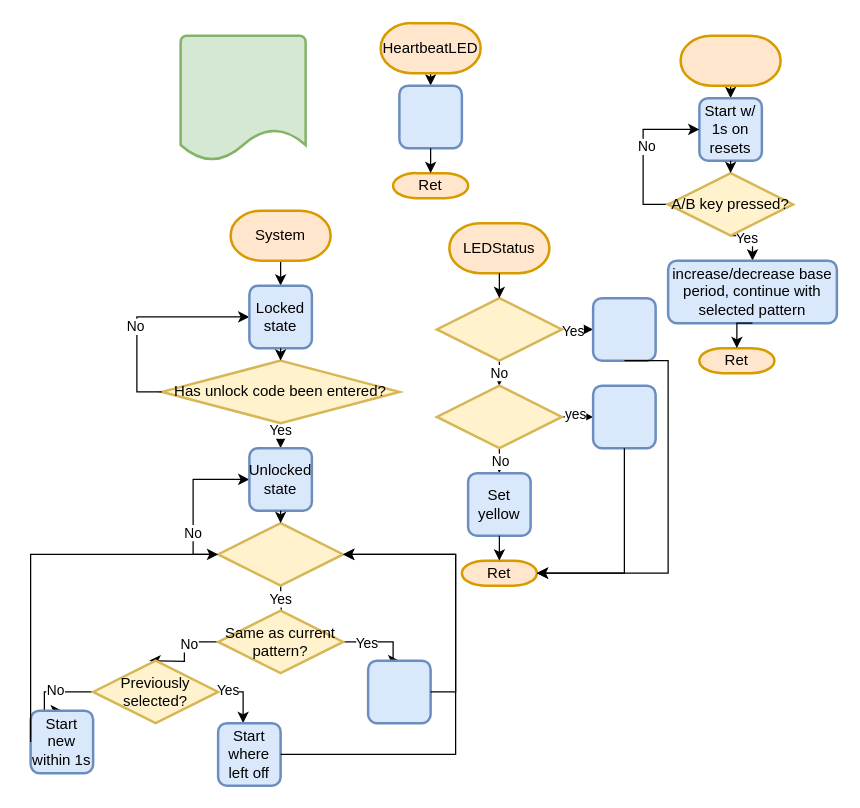
Some shapes in this 860 by 808 pixel diagram are drawn without their labels. The shapes that lost their labels are listed below. From the top down, each one's centre as x and y in pixels, then its label:
[730,60]: LEDPattern
[242,97]: Init Setup LEDs, inputs, and outputs
[430,116]: Toggle LED every 1s
[498,328]: Is Locked?
[623,328]: Set Red
[498,416]: Is Unlocked?
[623,416]: Set Blue
[280,553]: Pattern Selected?
[398,691]: Restart pattern
